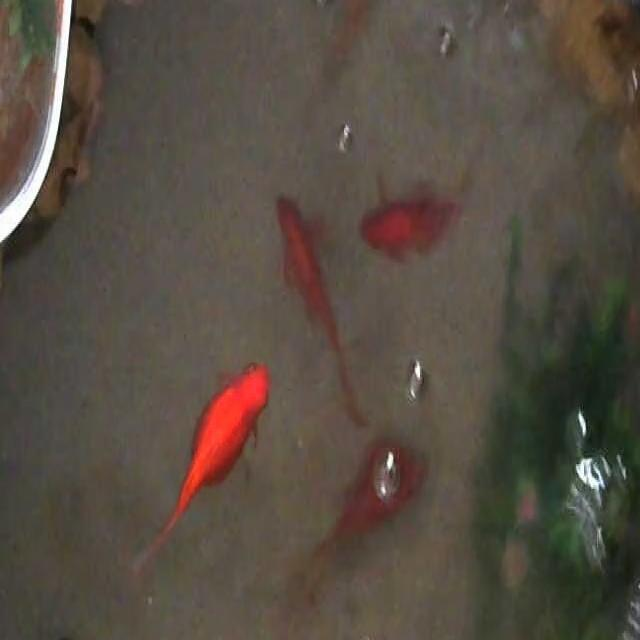fish: (128, 363, 270, 584), (282, 438, 428, 608), (274, 192, 366, 427), (358, 176, 467, 262)
